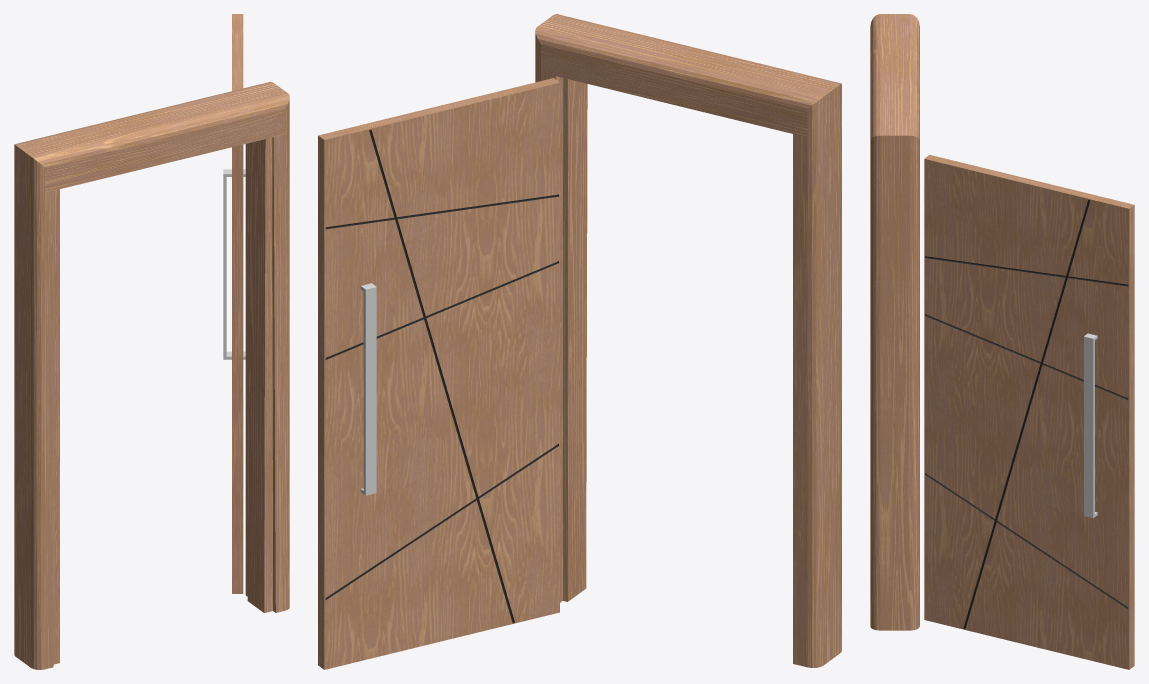
Rendered from wooden_door_open.dae.
3 renders of one model, left to right at view 1: azimuth 30°, elevation 25°; view 2: azimuth 150°, elevation 25°; view 3: azimuth 270°, elevation 25°, orthographic. The views are drawn at different scales.
Visible parts, largest first — view 1: Frame, Door, Handle; view 2: Door, Frame, Handle; view 3: Door, Frame, Handle2.
Part boxes in pixels (<box>): Frame: <box>14,82,289,669</box>; Door: <box>232,14,243,593</box>; Handle: <box>223,169,231,359</box>; Door: <box>318,78,559,669</box>; Frame: <box>535,14,841,667</box>; Handle: <box>360,283,376,495</box>; Door: <box>924,155,1134,669</box>; Frame: <box>870,14,919,630</box>; Handle2: <box>1083,333,1097,518</box>.
Size of the model in its own units: 1.54 by 1.07 by 2.2.
